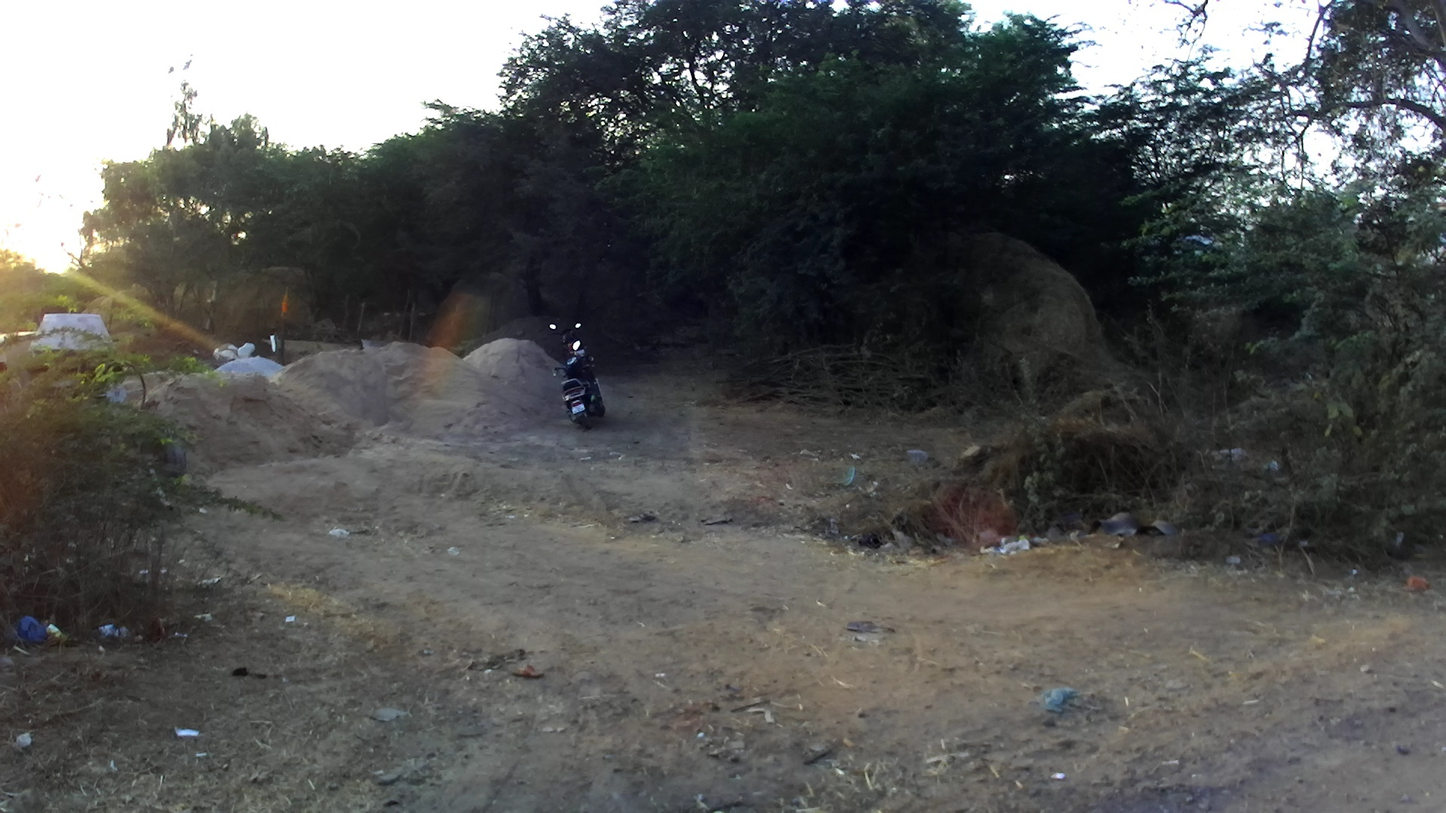motorcycle: (552, 340, 607, 430), (547, 321, 596, 370)
